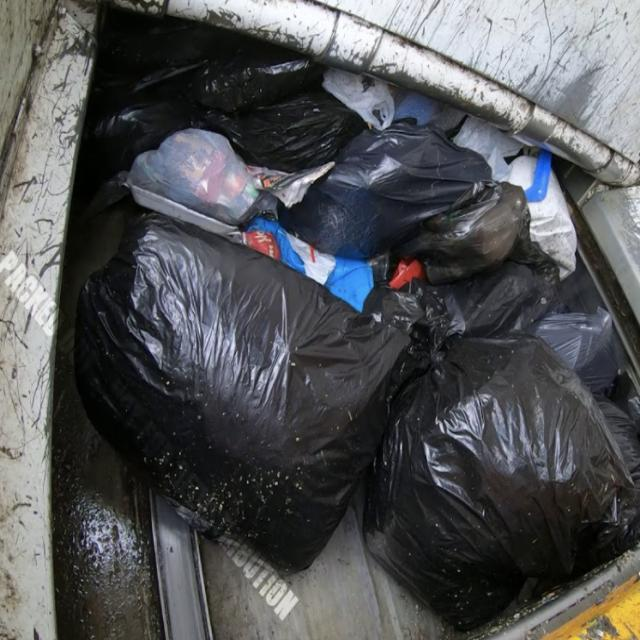bag: (51, 195, 415, 616), (342, 322, 640, 632), (261, 90, 503, 272)
